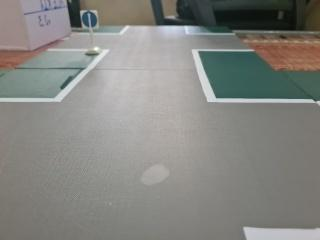straight: (82, 8, 99, 34)
